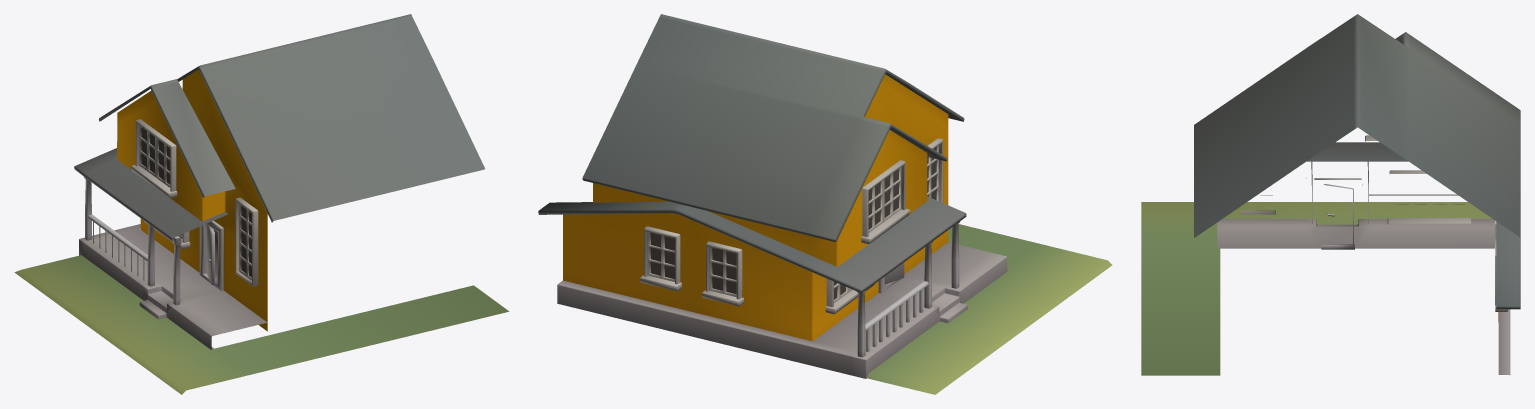
File: House02.glb
The picture shows the model from 3 angles, left to right: view 1: azimuth 30°, elevation 25°; view 2: azimuth 150°, elevation 25°; view 3: azimuth 270°, elevation 25°; orthographic projection. The views are drawn at different scales.
Visible parts, largest first — view 1: House02; view 2: House02; view 3: House02.
Part boxes in pixels (x1=…): House02: x1=14, y1=14, x2=509, y2=394; House02: x1=538, y1=14, x2=1112, y2=394; House02: x1=1141, y1=14, x2=1520, y2=375.
Size of the model in its own units: 22.15 by 13.13 by 17.9.
Materials: 2 (1 with a texture image).
